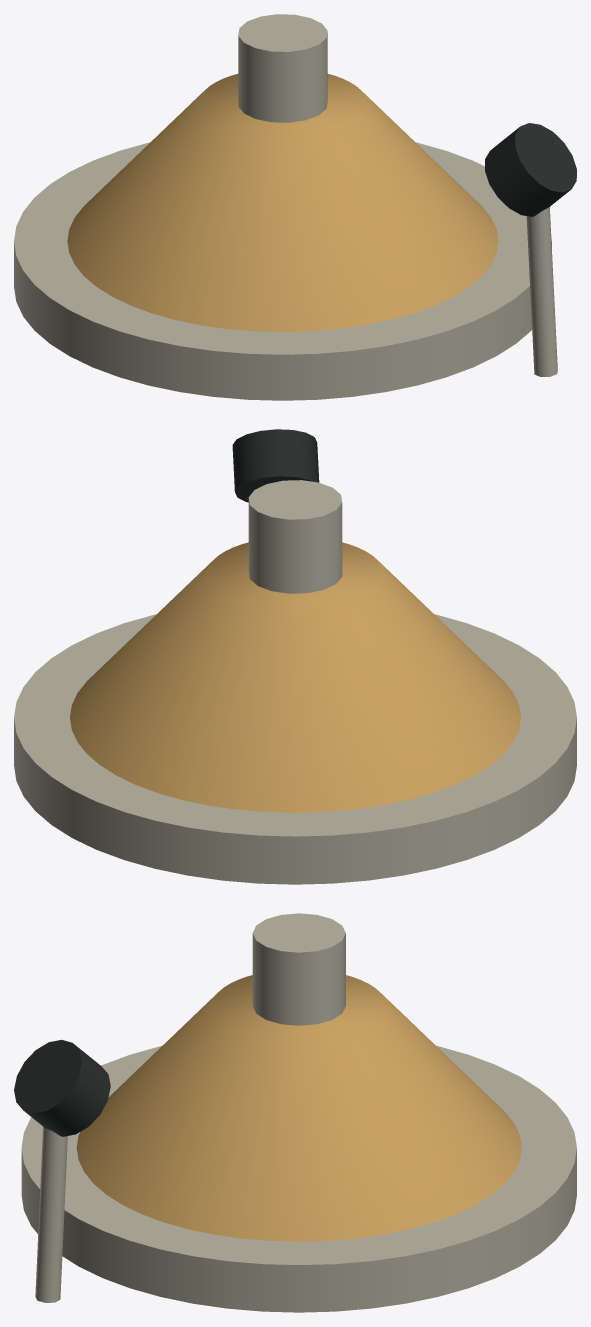
File: Continental.glb
3 renders of one model, top to bottom at view 1: azimuth 30°, elevation 25°; view 2: azimuth 150°, elevation 25°; view 3: azimuth 270°, elevation 25°, orthographic. The views are drawn at different scales.
Visible parts, largest first — view 1: Bell skirt, Dome lip, Crown, Clapper, Striker spring; view 2: Bell skirt, Dome lip, Crown, Clapper; view 3: Bell skirt, Dome lip, Crown, Clapper, Striker spring.
Part boxes in pixels (bbox=[...]): Bell skirt: bbox=[67, 74, 498, 332]; Dome lip: bbox=[14, 142, 551, 400]; Crown: bbox=[238, 14, 327, 122]; Clapper: bbox=[485, 123, 576, 216]; Striker spring: bbox=[526, 207, 557, 376]; Bell skirt: bbox=[70, 542, 520, 812]; Dome lip: bbox=[14, 614, 576, 884]; Crown: bbox=[248, 480, 342, 593]; Clapper: bbox=[232, 429, 319, 502]; Bell skirt: bbox=[76, 975, 521, 1241]; Dome lip: bbox=[21, 1045, 576, 1312]; Crown: bbox=[252, 913, 345, 1025]; Clapper: bbox=[14, 1039, 110, 1136]; Striker spring: bbox=[35, 1126, 67, 1302].
Size of the model in its own units: 0.4771 by 0.2791 by 0.4836.
